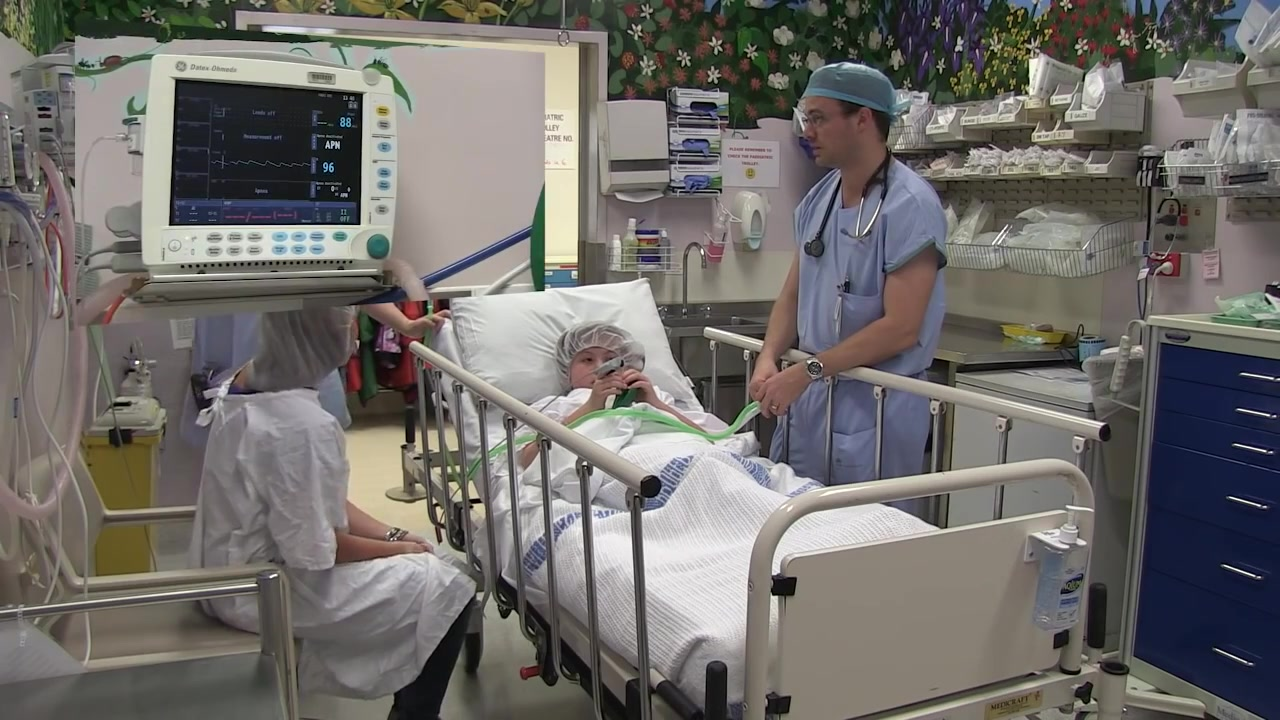bedrail: (407, 339, 664, 720), (681, 326, 1113, 531)
bedside_monitor: (143, 47, 395, 272)
breathing_tube: (1, 147, 84, 514), (475, 393, 761, 462)
chair: (14, 449, 300, 720)
countertop: (933, 321, 1071, 363)
dispenser: (1033, 505, 1092, 634), (598, 99, 671, 198), (668, 92, 724, 202), (731, 191, 767, 251)
faucet: (657, 243, 712, 319)
foot_board: (745, 457, 1095, 720)
handle: (1225, 493, 1280, 512), (1216, 644, 1254, 667), (1234, 405, 1280, 420), (1224, 562, 1259, 580), (1231, 443, 1280, 455), (1242, 372, 1280, 387)
hospital_bed: (401, 279, 1098, 719)
medical_drawer: (1124, 313, 1280, 720)
patient: (518, 321, 718, 469)
sink: (656, 317, 768, 331)
staff: (763, 67, 948, 502)
visitor: (173, 276, 473, 719)
